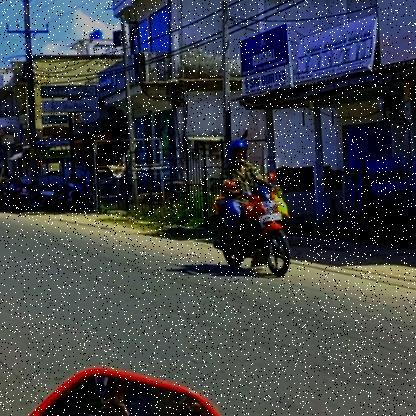motorcycle: (207, 184, 292, 278)
